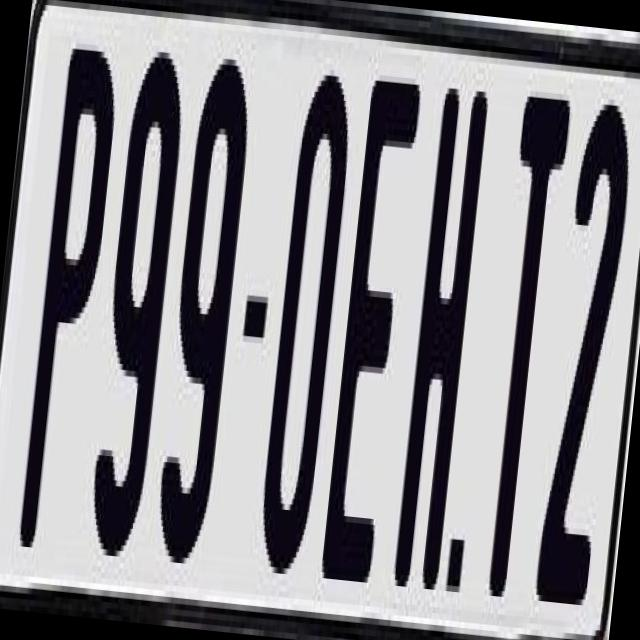0: (254, 55, 360, 588)
2: (530, 96, 640, 623)
9: (78, 43, 188, 587), (150, 44, 262, 572)
E: (318, 68, 422, 582)
H: (389, 87, 491, 590)
P: (17, 42, 122, 557)
T: (474, 90, 576, 593)
